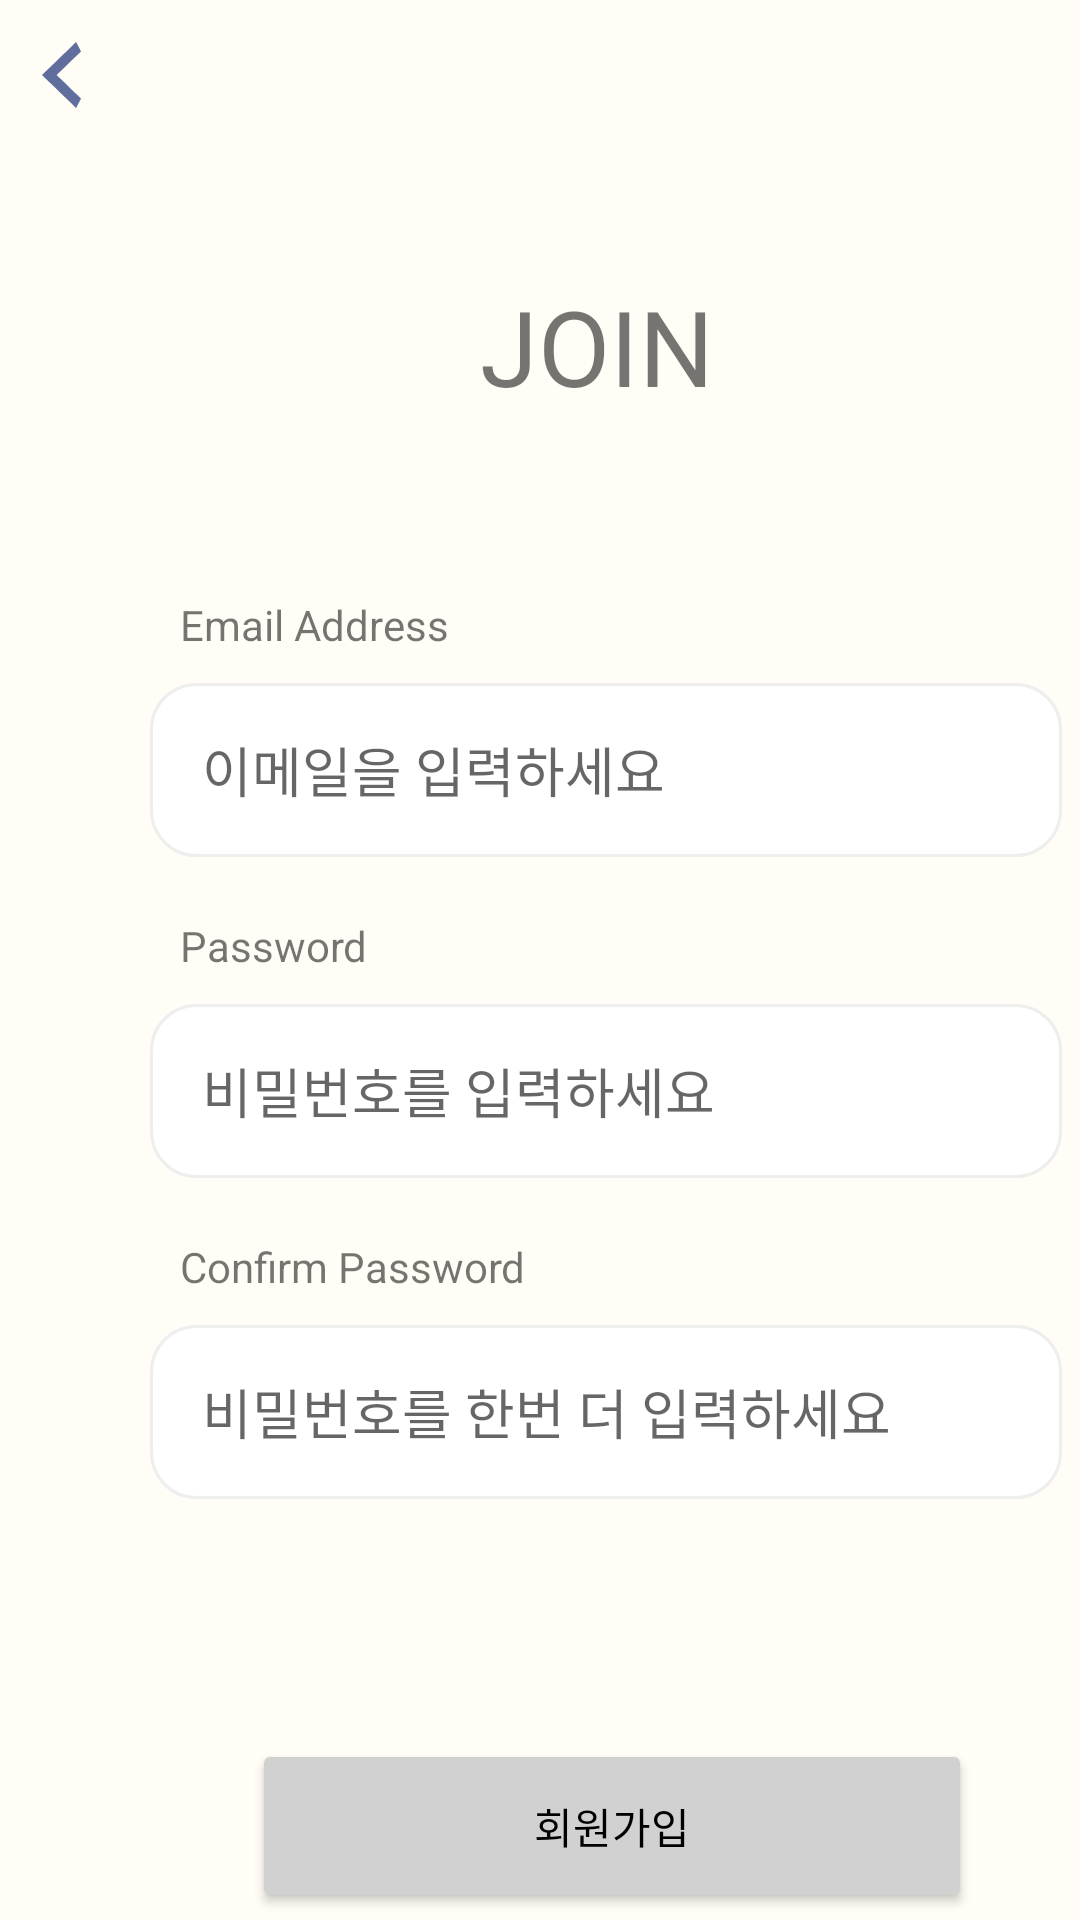

Where to tap for icons on this 1080px x 1920px app screen, as (x,y):
backbutton navy: (61,75)
